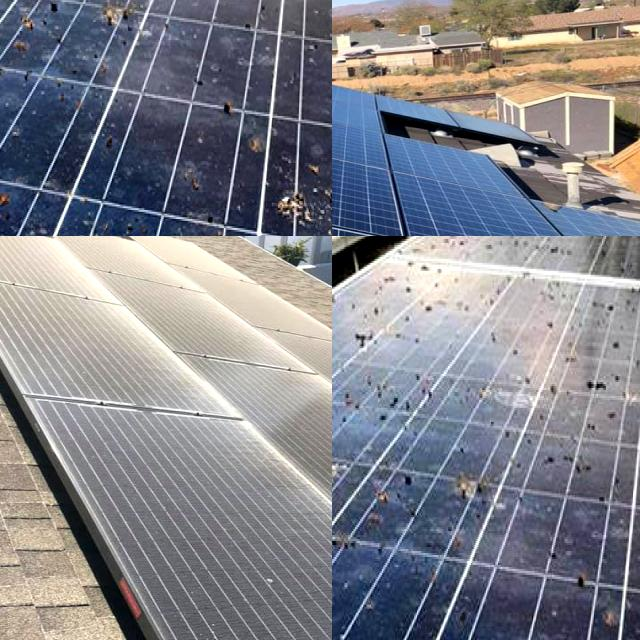bird: (531, 318, 640, 443), (341, 300, 434, 406), (438, 404, 500, 552), (566, 528, 628, 632), (332, 430, 392, 526), (264, 180, 332, 236), (538, 444, 608, 480), (95, 0, 142, 47), (242, 114, 282, 168), (86, 209, 158, 236), (0, 86, 29, 145), (0, 162, 23, 236), (0, 35, 27, 90), (332, 525, 367, 566), (124, 0, 180, 23), (179, 0, 254, 17), (213, 85, 240, 125), (0, 171, 19, 225), (25, 0, 81, 18), (237, 0, 285, 15), (0, 0, 22, 26), (13, 30, 32, 59), (0, 0, 21, 20), (227, 0, 272, 9), (0, 0, 20, 16), (0, 0, 13, 21), (0, 0, 17, 9)
crack: (332, 25, 496, 209), (332, 81, 423, 226)
dust: (110, 426, 254, 559), (30, 313, 176, 410), (201, 564, 332, 640), (263, 436, 332, 558), (0, 237, 105, 300), (218, 320, 300, 388), (127, 264, 260, 300)
